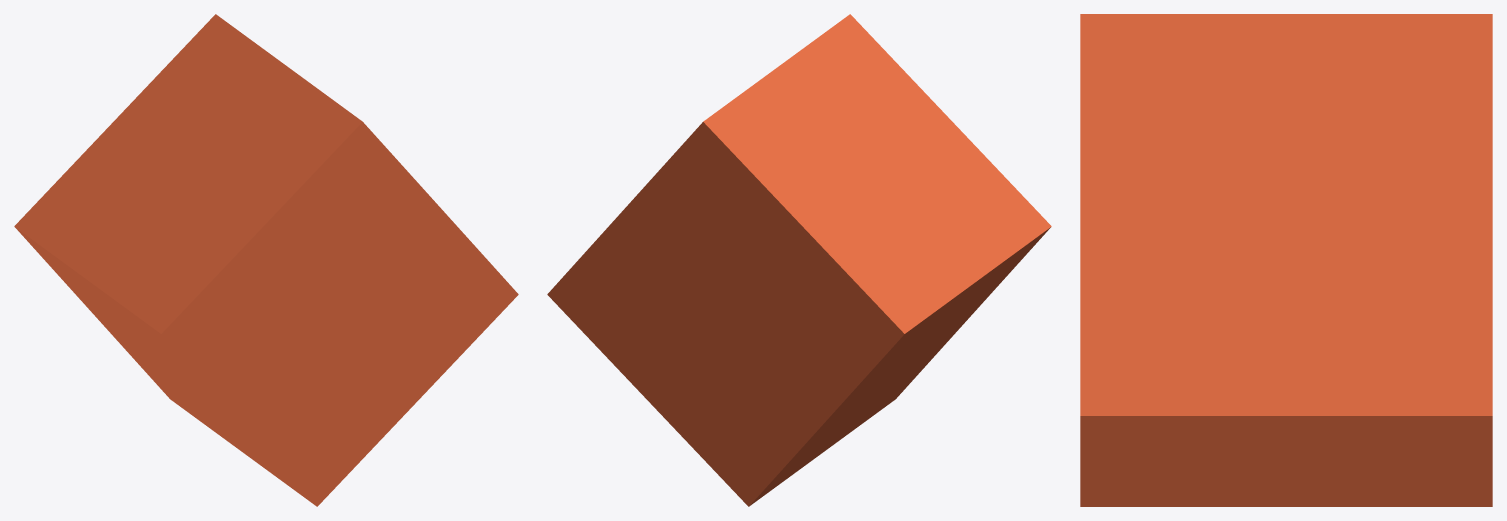
Rendered from bone.glb.
The picture shows the model from 3 angles, left to right: view 1: azimuth 30°, elevation 25°; view 2: azimuth 150°, elevation 25°; view 3: azimuth 270°, elevation 25°; orthographic projection. The views are drawn at different scales.
Visible parts, largest first — view 1: Cube; view 2: Cube; view 3: Cube.
Boxes of the visible parts, bbox=[...] form: Cube: bbox=[14, 14, 518, 506]; Cube: bbox=[547, 14, 1051, 506]; Cube: bbox=[1080, 14, 1492, 506].
Bounding box in the file's own units: 0.8067 × 0.8067 × 0.575.
